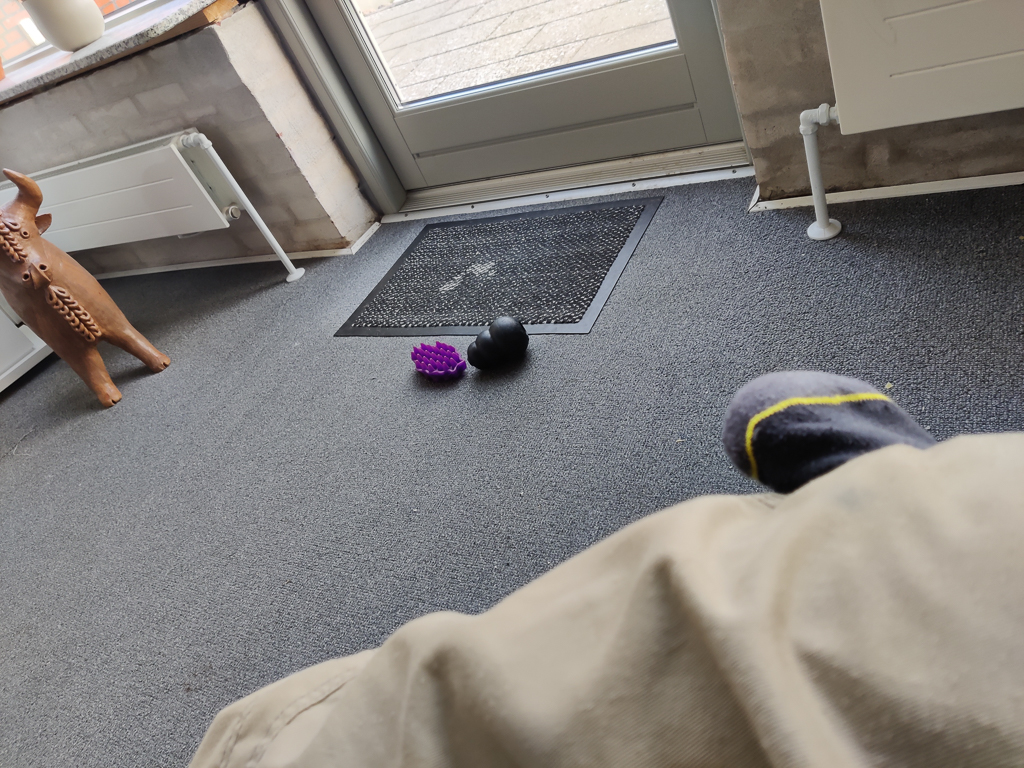Cattle: (0, 160, 192, 425)
Humanoid: (176, 360, 1024, 768)
